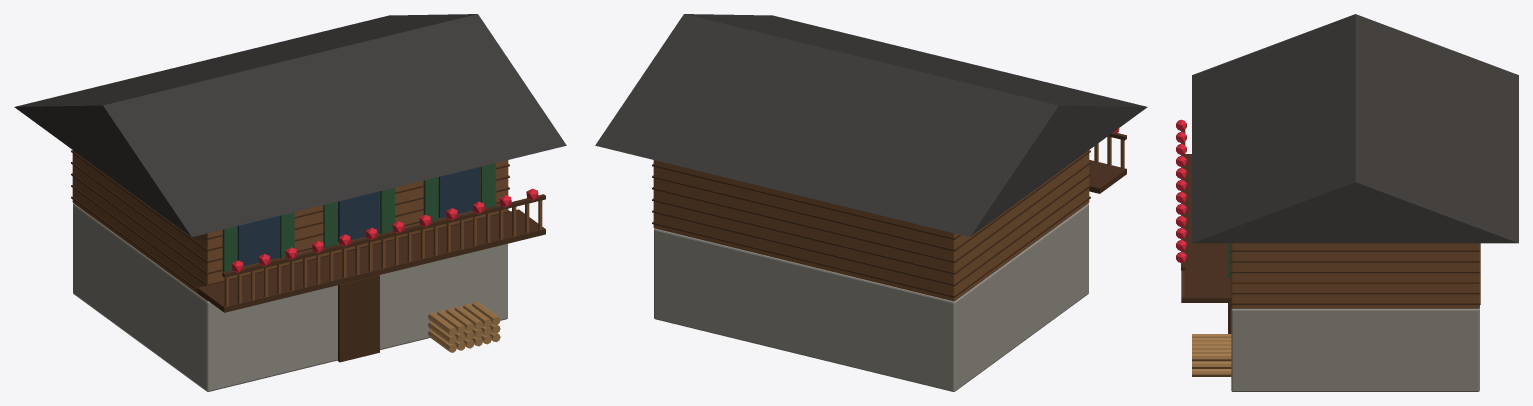
File: haus_chalet.glb
3 renders of one model, left to right at view 1: azimuth 30°, elevation 25°; view 2: azimuth 150°, elevation 25°; view 3: azimuth 270°, elevation 25°, orthographic. The views are drawn at different scales.
Parts seen in each view (by area): view 1: dach, erdg, og, balkon, tuer, fenster, fenster.002, handlauf, fenster.001, fuge.001, laden2.002, laden.001 (+7 smaller); view 2: dach, erdg, og, fuge.002, fuge.004, fuge, fuge.001, fuge.003, balkon, fuge.005; view 3: dach, erdg, og, balkon, fuge.003, fuge.001, fuge.002, fuge.004, fuge.005, fuge, scheit.012, scheit (+1 smaller).
Boxes of the visible parts, x1=… form: dach: x1=14, y1=14, x2=566, y2=236; erdg: x1=73, y1=203, x2=507, y2=391; og: x1=72, y1=150, x2=508, y2=301; balkon: x1=197, y1=209, x2=545, y2=312; tuer: x1=337, y1=275, x2=379, y2=362; fenster: x1=237, y1=216, x2=279, y2=266; fenster.002: x1=438, y1=167, x2=480, y2=218; handlauf: x1=222, y1=194, x2=545, y2=277; fenster.001: x1=338, y1=191, x2=379, y2=242; fuge.001: x1=71, y1=185, x2=509, y2=285; laden2.002: x1=480, y1=163, x2=495, y2=208; laden.001: x1=323, y1=201, x2=337, y2=247; dach: x1=595, y1=14, x2=1147, y2=236; erdg: x1=654, y1=203, x2=1088, y2=391; og: x1=653, y1=150, x2=1089, y2=301; fuge.002: x1=652, y1=173, x2=1090, y2=274; fuge.004: x1=652, y1=150, x2=1090, y2=251; fuge: x1=652, y1=196, x2=1090, y2=297; fuge.001: x1=652, y1=185, x2=1090, y2=286; fuge.003: x1=652, y1=162, x2=1090, y2=262; balkon: x1=1089, y1=160, x2=1126, y2=193; fuge.005: x1=652, y1=164, x2=961, y2=239; dach: x1=1192, y1=14, x2=1518, y2=243; erdg: x1=1231, y1=308, x2=1479, y2=391; og: x1=1231, y1=243, x2=1479, y2=308; balkon: x1=1181, y1=154, x2=1231, y2=302; fuge.003: x1=1230, y1=262, x2=1480, y2=273; fuge.001: x1=1230, y1=283, x2=1480, y2=294; fuge.002: x1=1230, y1=273, x2=1480, y2=283; fuge.004: x1=1230, y1=252, x2=1480, y2=262; fuge.005: x1=1230, y1=243, x2=1480, y2=251; fuge: x1=1230, y1=294, x2=1480, y2=304; scheit.012: x1=1192, y1=353, x2=1231, y2=361; scheit: x1=1192, y1=369, x2=1231, y2=376.
Size of the model in its own units: 11.2 by 7.05 by 9.65.
